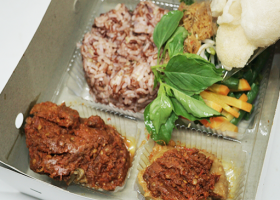Nasi Merah: (82, 8, 190, 108)
